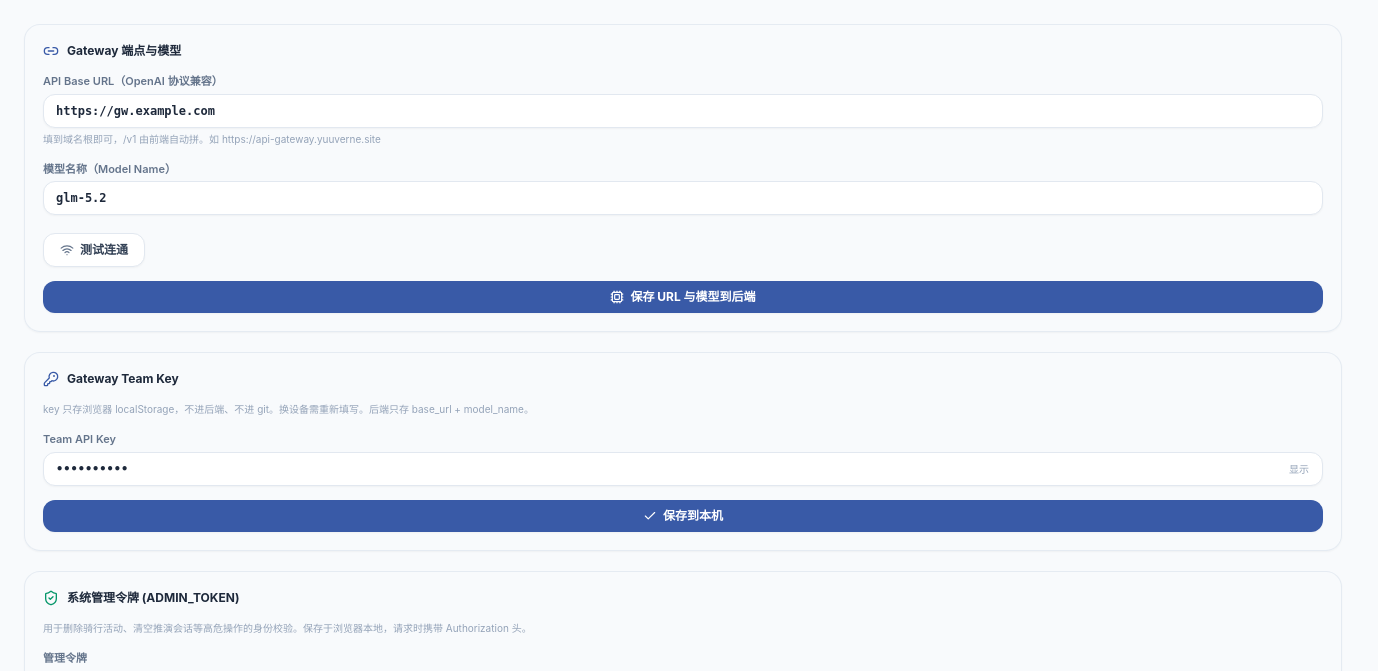
Test: AIGatewayConfigTab AI 接入配置 › 测试连通成功且模型在列表中
Click the button "测试连通": point(94, 250) left=43, top=233, right=145, bottom=267
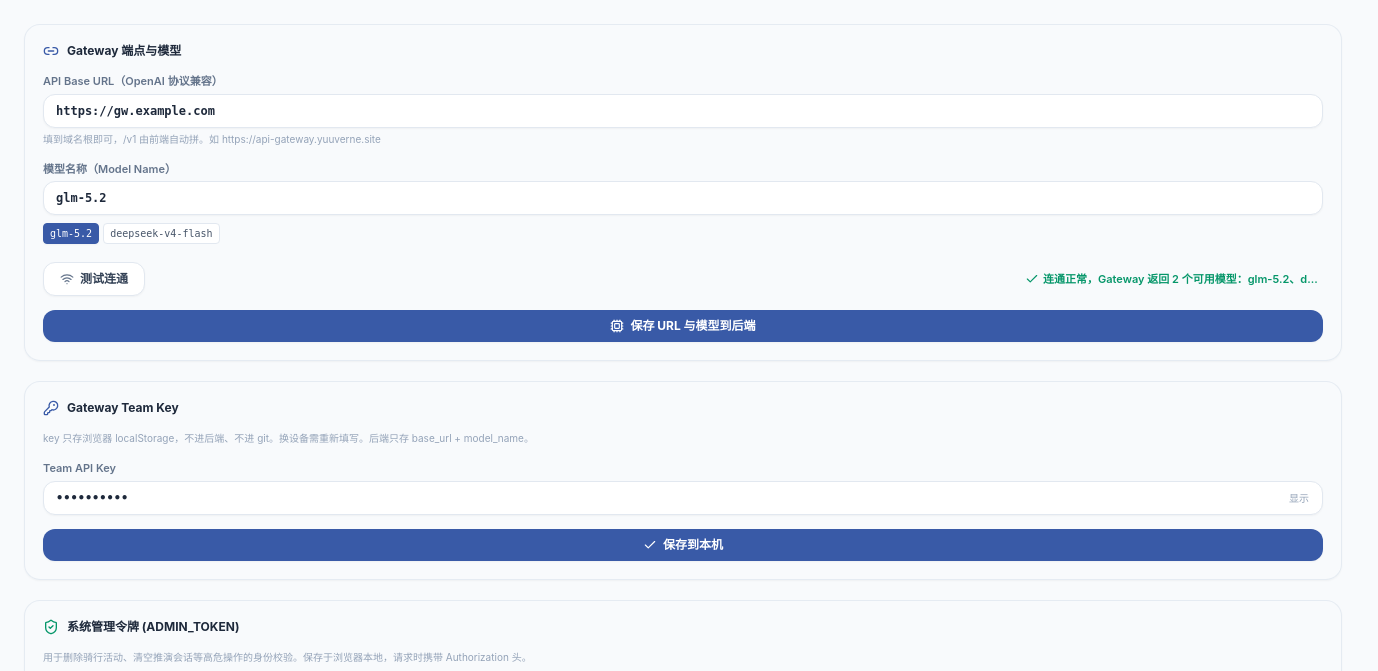
Expected: the text "连通正常，Gateway 返回 2 个可用模型：glm-5.2、deepseek-v4-flash" is shown, left=1043, top=271, right=1323, bottom=287
